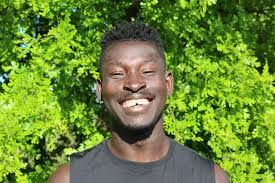no-mask: (91, 28, 188, 132)
